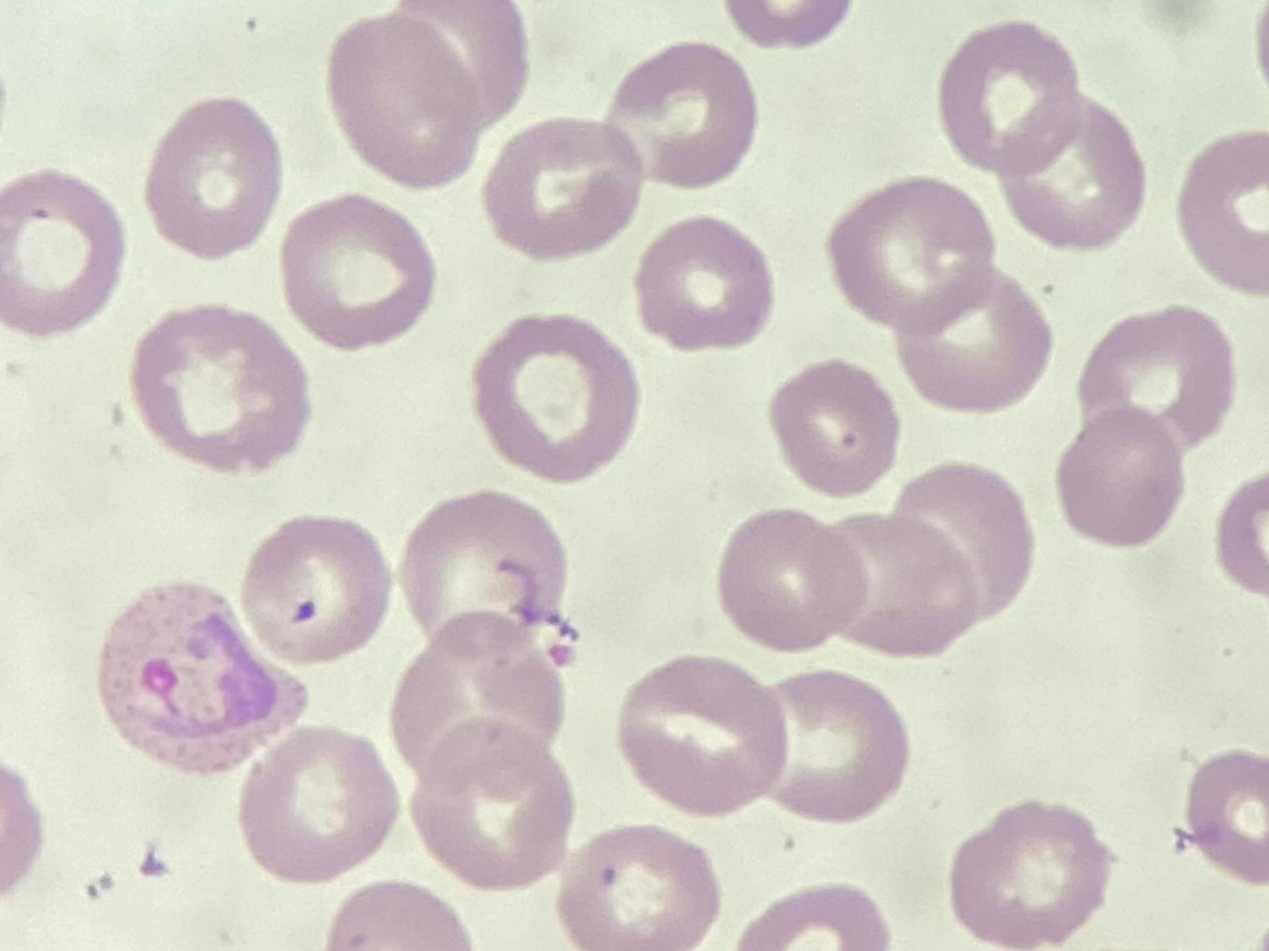Infected: (95, 580, 311, 772)
Uninfected: (386, 613, 568, 794), (134, 303, 317, 465), (617, 648, 786, 818), (405, 714, 567, 887), (471, 311, 633, 483), (326, 12, 476, 193), (399, 494, 570, 650), (824, 179, 991, 333), (240, 728, 394, 883), (952, 798, 1106, 951), (280, 197, 435, 349), (1080, 303, 1234, 453), (760, 670, 908, 824), (485, 120, 649, 258), (826, 516, 977, 665), (994, 102, 1143, 248), (934, 23, 1077, 174), (899, 265, 1049, 406), (148, 93, 278, 251), (610, 36, 749, 182), (564, 820, 715, 951), (245, 521, 386, 661), (720, 512, 862, 650), (903, 457, 1034, 605), (0, 170, 119, 331), (630, 219, 765, 353), (1053, 406, 1175, 546), (404, 0, 533, 131), (771, 366, 892, 498)
